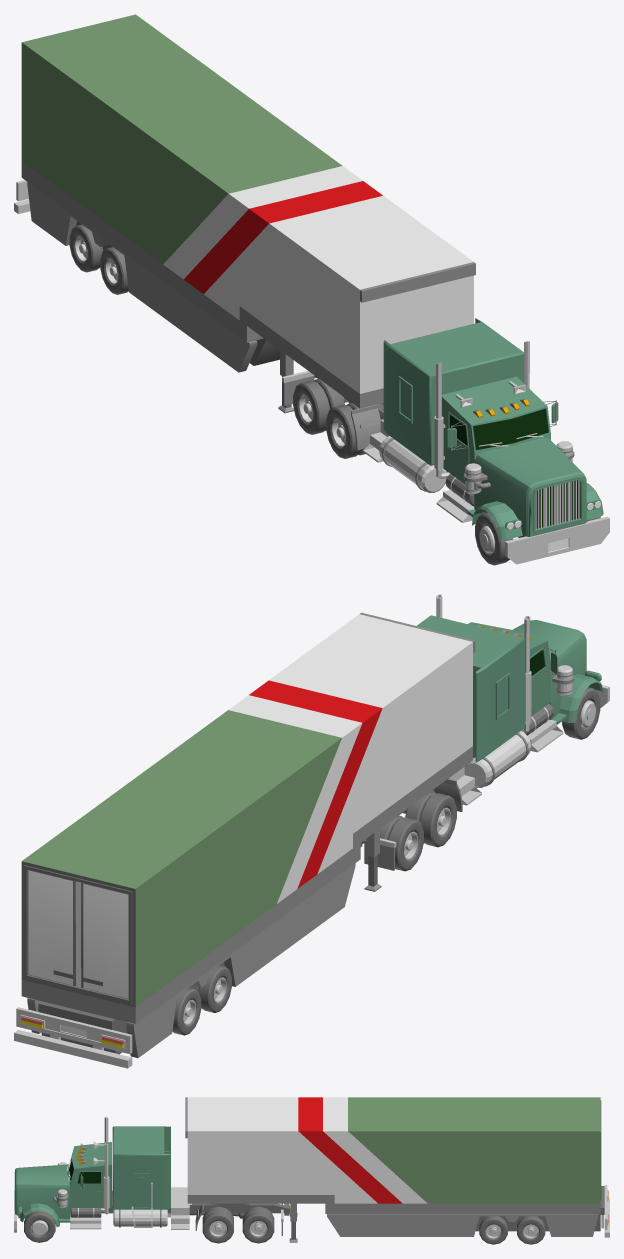
Rendered from truck-container_001.glb.
3 renders of one model, top to bottom at view 1: azimuth 30°, elevation 25°; view 2: azimuth 150°, elevation 25°; view 3: azimuth 270°, elevation 25°, orthographic. The views are drawn at different scales.
Visible parts, largest first — view 1: TrailerBox_4, cabin, Box, Trailer1, Bumper, wheels2_1, barrel2, Radiator, wheels2, wheel_wing3, exhaust_3, wheels1 (+4 smaller); view 2: TrailerBox_4, Trailer1, Box, cabin, wheels2, barrel2, wheels2_1, wheels1, wheels1_4, wheels2_4, wheel_wing3, exhaust_3 (+1 smaller); view 3: TrailerBox_4, Trailer1, Box, cabin, wheels2_1, wheels2, barrel2, Bottom, wheels1, Steps2, wheels1_4, wheels2_4 (+6 smaller).
Boxes of the visible parts, left/top/right/bottom form: TrailerBox_4: left=21, top=14, right=475, bottom=413; cabin: left=442, top=376, right=586, bottom=537; Box: left=383, top=318, right=523, bottom=465; Trailer1: left=14, top=180, right=257, bottom=372; Bumper: left=505, top=516, right=609, bottom=564; wheels2_1: left=293, top=378, right=344, bottom=434; barrel2: left=379, top=436, right=446, bottom=492; Radiator: left=535, top=480, right=579, bottom=529; wheels2: left=326, top=403, right=365, bottom=458; wheel_wing3: left=472, top=483, right=603, bottom=539; exhaust_3: left=434, top=341, right=529, bottom=478; wheels1: left=475, top=512, right=600, bottom=565; TrailerBox_4: left=21, top=612, right=475, bottom=1054; Trailer1: left=14, top=863, right=355, bottom=1068; Box: left=417, top=615, right=524, bottom=762; cabin: left=467, top=620, right=586, bottom=724; wheels2: left=405, top=791, right=456, bottom=847; barrel2: left=464, top=731, right=531, bottom=787; wheels2_1: left=380, top=815, right=423, bottom=871; wheels1: left=562, top=687, right=600, bottom=739; wheels1_4: left=198, top=965, right=231, bottom=1012; wheels2_4: left=172, top=987, right=201, bottom=1035; wheel_wing3: left=559, top=674, right=603, bottom=722; exhaust_3: left=436, top=594, right=531, bottom=733; TrailerBox_4: left=185, top=1097, right=604, bottom=1242; Trailer1: left=327, top=1185, right=609, bottom=1237; Box: left=112, top=1126, right=170, bottom=1209; cabin: left=14, top=1142, right=111, bottom=1222; wheels2_1: left=242, top=1206, right=274, bottom=1243; wheels2: left=202, top=1206, right=233, bottom=1243; barrel2: left=113, top=1209, right=167, bottom=1227; Bottom: left=70, top=1190, right=289, bottom=1218; wheels1: left=24, top=1210, right=55, bottom=1242; Steps2: left=167, top=1187, right=191, bottom=1229; wheels1_4: left=479, top=1216, right=507, bottom=1244; wheels2_4: left=517, top=1216, right=545, bottom=1244.
Size of the model in its own units: 1.79 by 2.77 by 13.06.
